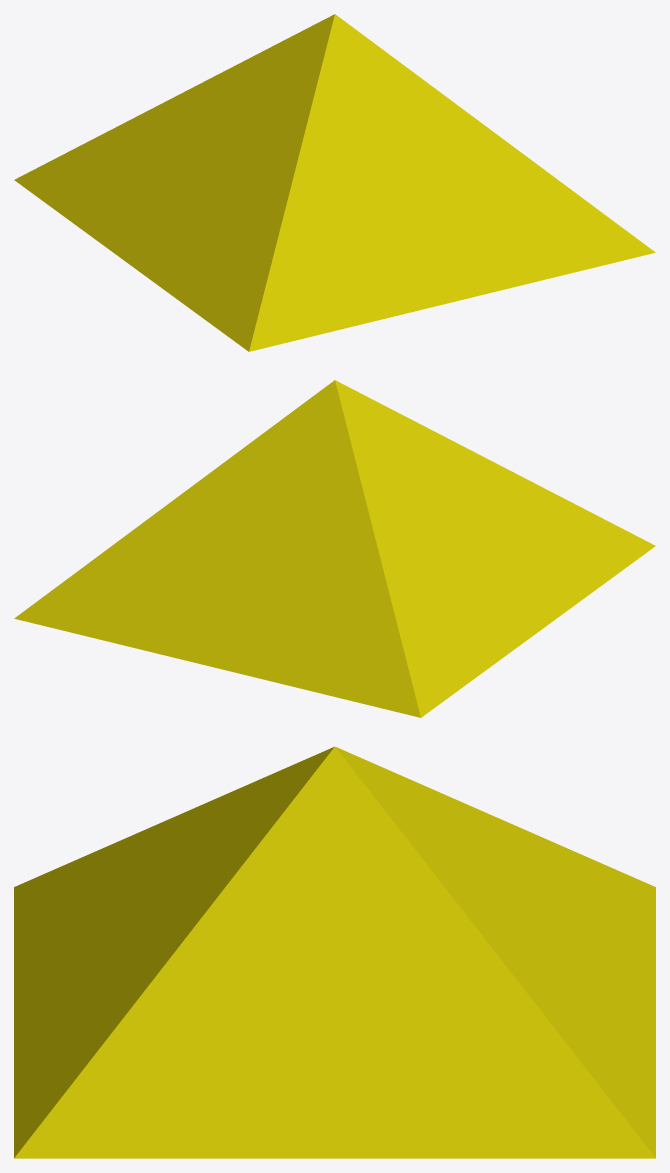
File: core.dae
The picture shows the model from 3 angles, top to bottom: view 1: azimuth 30°, elevation 25°; view 2: azimuth 150°, elevation 25°; view 3: azimuth 270°, elevation 25°; orthographic projection. The views are drawn at different scales.
Parts seen in each view (by area): view 1: core; view 2: core; view 3: core.
Part boxes in pixels (<box>): core: <box>14,14,655,351</box>; core: <box>14,380,655,717</box>; core: <box>14,746,655,1158</box>.
Size of what is drawn, in the model's own units: 4 by 4 by 1.9.
